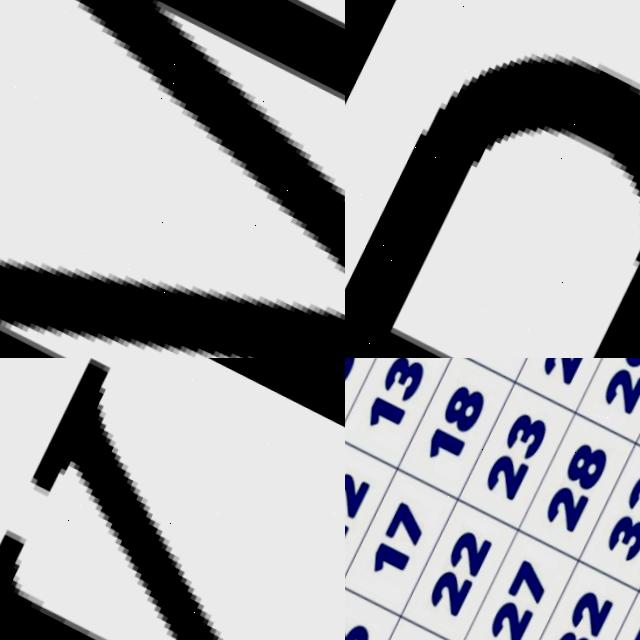1: (419, 413, 475, 471), (359, 383, 414, 439), (365, 533, 419, 586), (345, 506, 357, 556)
2: (443, 514, 503, 577), (427, 555, 484, 619), (539, 471, 597, 530), (485, 585, 542, 640), (569, 578, 623, 635), (484, 441, 537, 498), (595, 358, 640, 414), (345, 457, 380, 514), (537, 358, 592, 384)
3: (502, 395, 559, 457), (380, 358, 436, 397), (605, 500, 640, 557), (547, 613, 606, 640), (621, 453, 640, 516)
6: (345, 601, 384, 640)
7: (380, 487, 444, 552), (505, 544, 563, 606)
8: (438, 368, 495, 433), (562, 425, 619, 489)
M: (0, 0, 345, 358)
P: (345, 51, 640, 358)
W: (0, 358, 345, 640)
